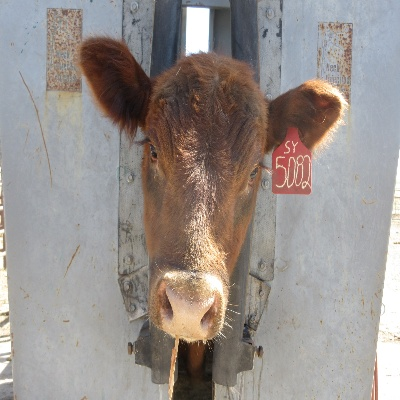fidget_spinner: (157, 269, 222, 342)
